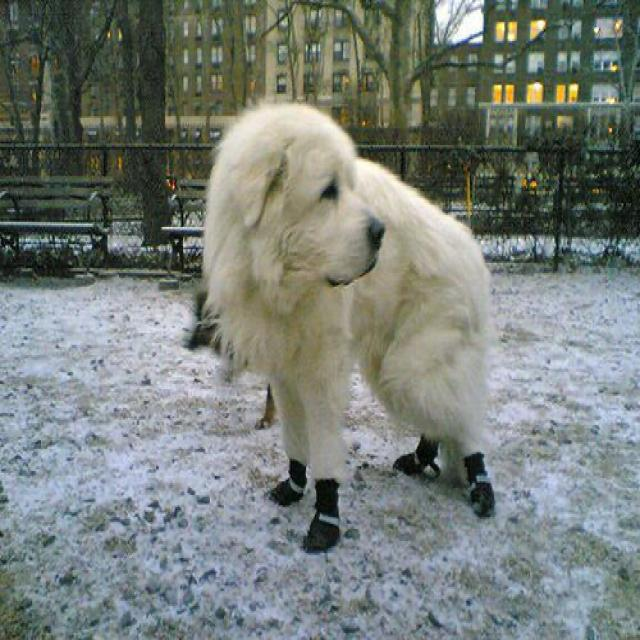dog: (230, 102, 383, 282)
